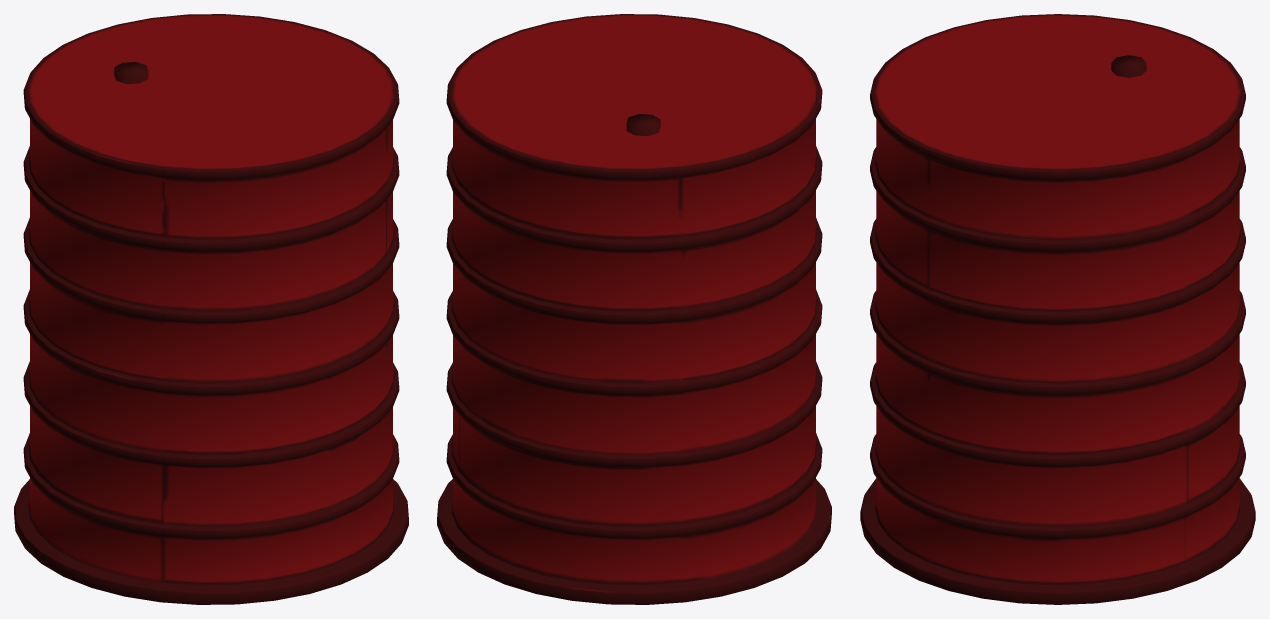
File: barrel.glb
3 renders of one model, left to right at view 1: azimuth 30°, elevation 25°; view 2: azimuth 150°, elevation 25°; view 3: azimuth 270°, elevation 25°, orthographic.
Visible parts, largest first — view 1: Barrel; view 2: Barrel; view 3: Barrel.
Part boxes in pixels (x1,y1,x2,y2): Barrel: [14, 14, 408, 604]; Barrel: [437, 14, 831, 604]; Barrel: [860, 14, 1255, 604].
Size of the model in its own units: 1.67 by 2.04 by 1.67.
1 material, 1 textured.
